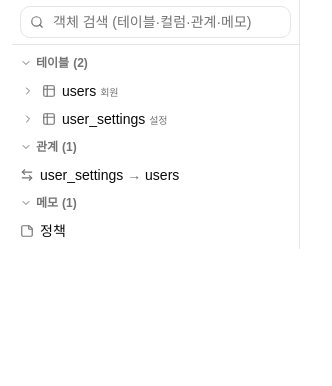
it: ModelExplorerPanel — 트리 렌더 › 기본 접힌 테이블 — 펼치면 컬럼 자식과 PK/FK/NN 배지가 나온다
Expected: the text "email" is not shown
Click the button named "users". click: {"x": 28, "y": 91}
box: [20,83,36,99]
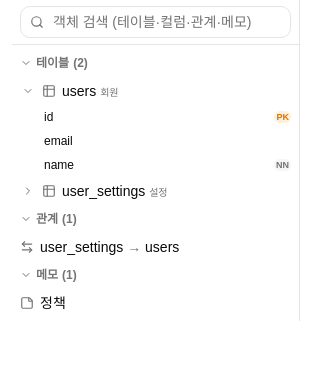
Result: the text "email" is shown at [44,134,73,148]
Result: the text "PK" is shown at [274,111,291,123]
Result: the text "NN" is shown at [274,159,291,171]
Click the button named "user_settings". click: {"x": 28, "y": 191}
box: [20,183,36,199]
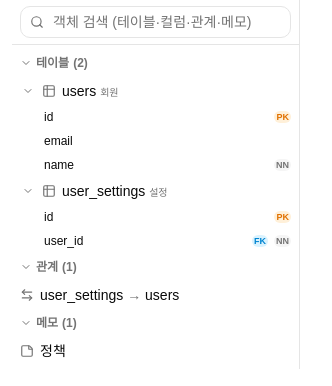
Result: the text "FK" is shown at [252,235,268,247]
